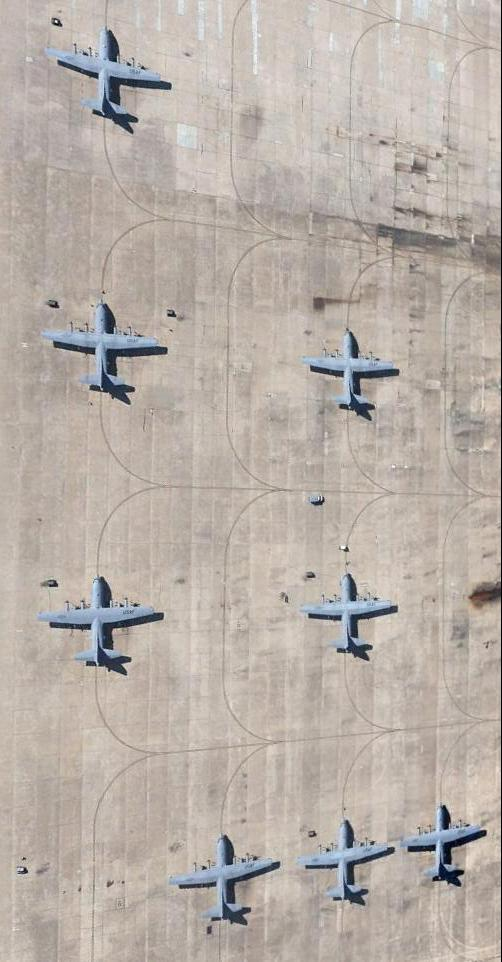C-130: (44, 302, 163, 399), (53, 27, 165, 123), (170, 834, 285, 926), (44, 574, 158, 666), (298, 815, 391, 907), (298, 572, 401, 655), (397, 800, 491, 888), (304, 327, 399, 412)
